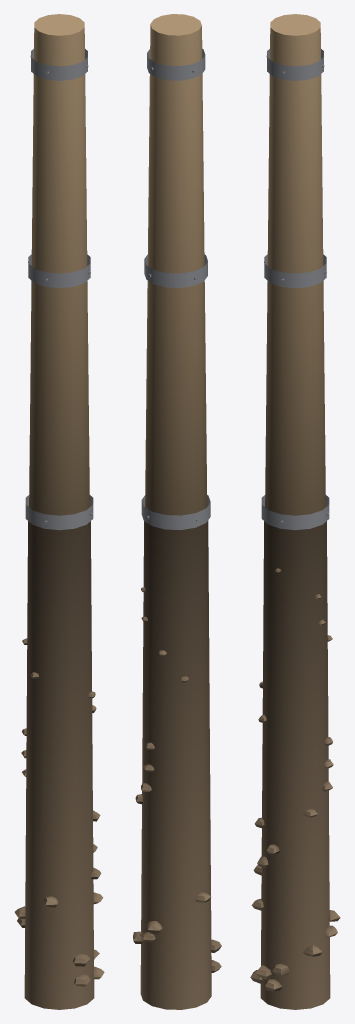
The model's file is rig_piling.glb.
The picture shows the model from 3 angles, left to right: view 1: azimuth 90°, elevation 25°; view 2: azimuth 150°, elevation 25°; view 3: azimuth 270°, elevation 25°; orthographic projection.
Visible parts, largest first — view 1: rig_piling; view 2: rig_piling; view 3: rig_piling.
Boxes of the visible parts, x1=… form: rig_piling: x1=14, y1=14, x2=104, y2=1009; rig_piling: x1=133, y1=14, x2=221, y2=1009; rig_piling: x1=250, y1=14, x2=340, y2=1009.
Bounding box in the file's own units: 0.9381 × 12 × 1.01.
